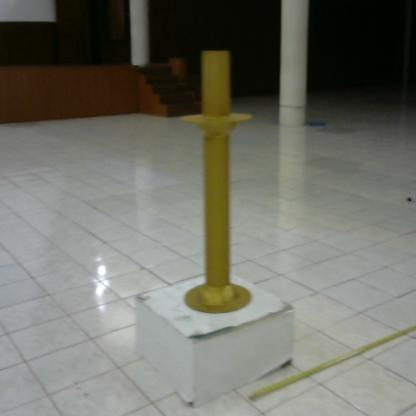pole: (177, 45, 260, 320)
